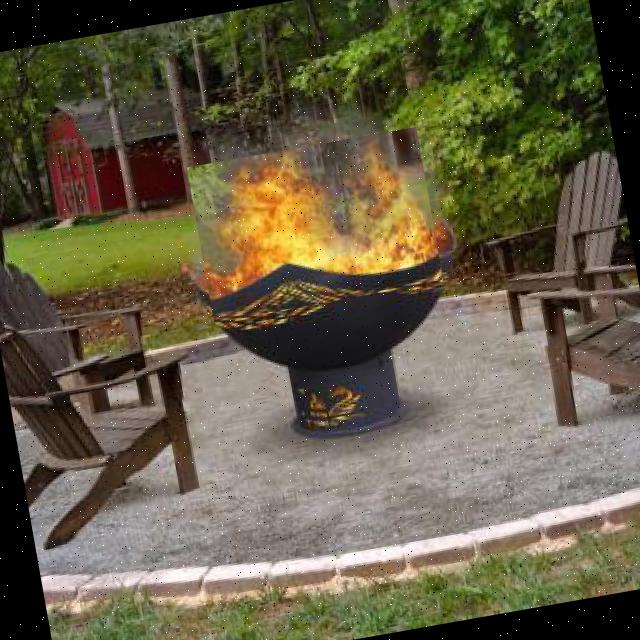fire: (186, 126, 443, 322)
